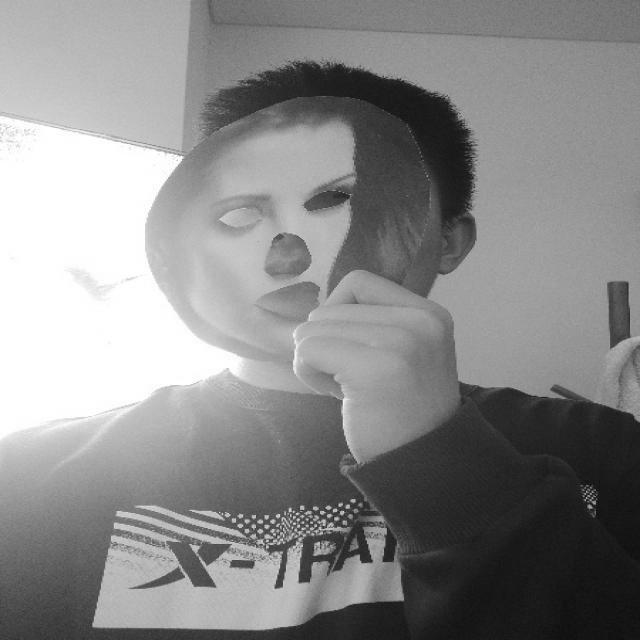real: (145, 93, 437, 364)
